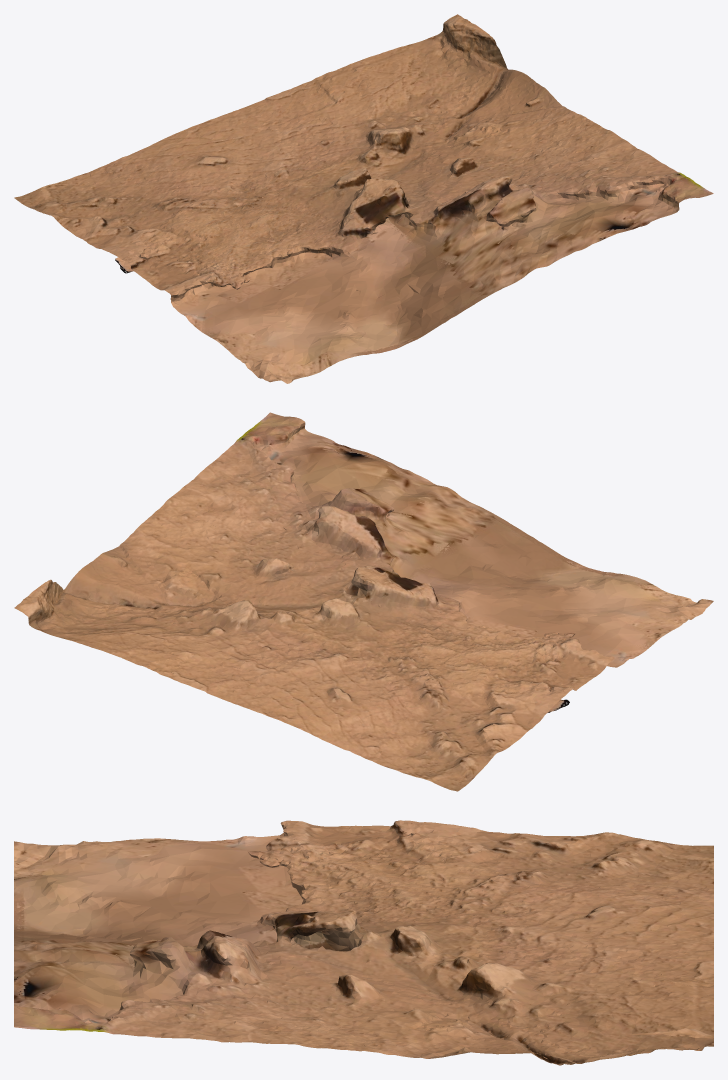
3 views of the same model, one above another, from view 1: azimuth 30°, elevation 25°; view 2: azimuth 150°, elevation 25°; view 3: azimuth 270°, elevation 25° (orthographic). The views are drawn at different scales.
Size of the model in its own units: 2.09 by 0.3939 by 2.09.
3 materials, 3 textured.
